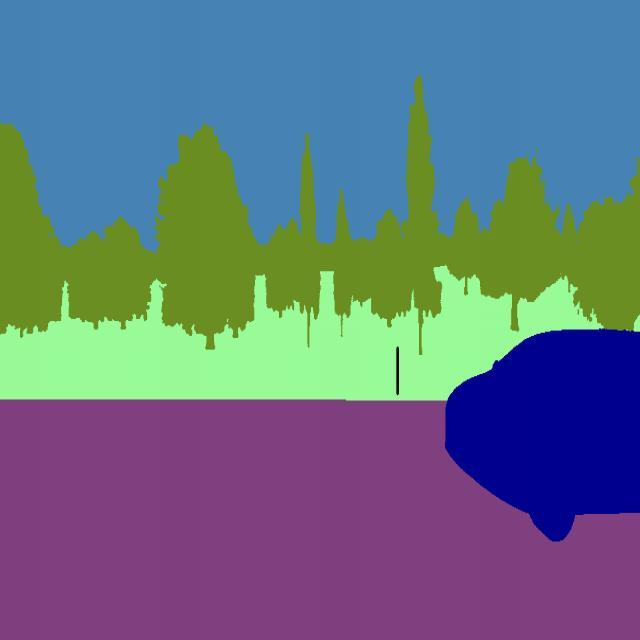safe: (440, 321, 640, 558)
